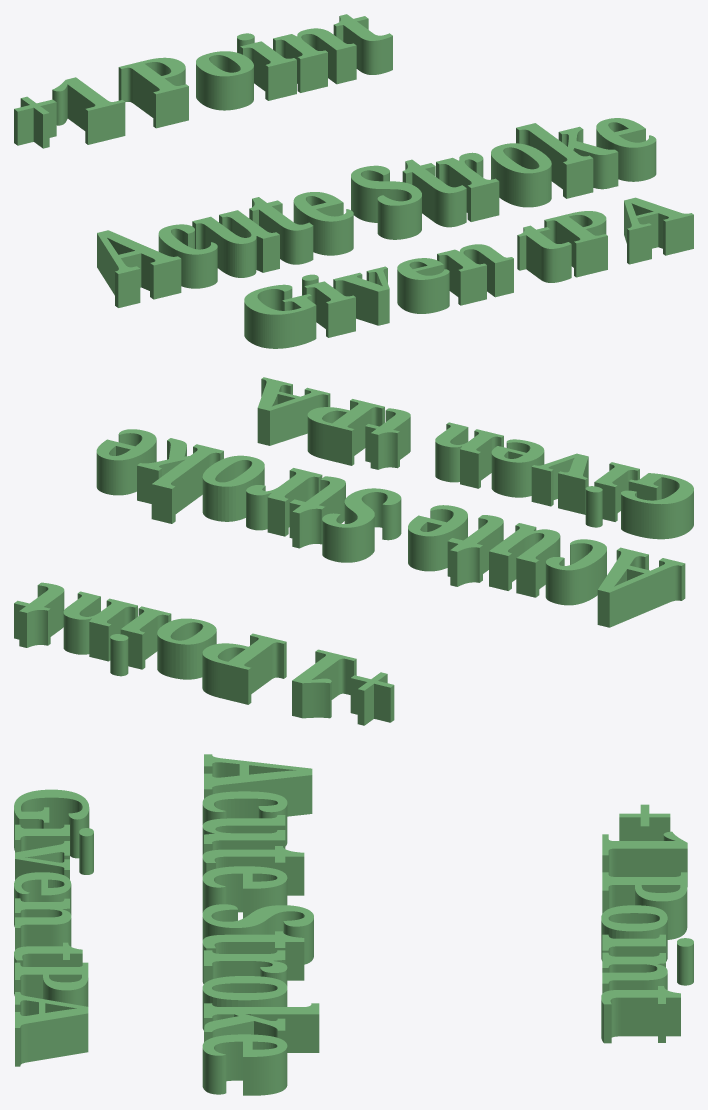
The model's file is postpa.gltf.
3 renders of one model, top to bottom at view 1: azimuth 30°, elevation 25°; view 2: azimuth 150°, elevation 25°; view 3: azimuth 270°, elevation 25°, orthographic. The views are drawn at different scales.
Visible parts, largest first — view 1: Mesh_Mesh_head_geo001_lambert2SG001; view 2: Mesh_Mesh_head_geo001_lambert2SG001; view 3: Mesh_Mesh_head_geo001_lambert2SG001.
Boxes of the visible parts, left/top/right/bottom form: Mesh_Mesh_head_geo001_lambert2SG001: left=14, top=14, right=693, bottom=348; Mesh_Mesh_head_geo001_lambert2SG001: left=14, top=377, right=693, bottom=725; Mesh_Mesh_head_geo001_lambert2SG001: left=14, top=754, right=693, bottom=1095.
Size of the model in its own units: 167 by 10 by 159.
